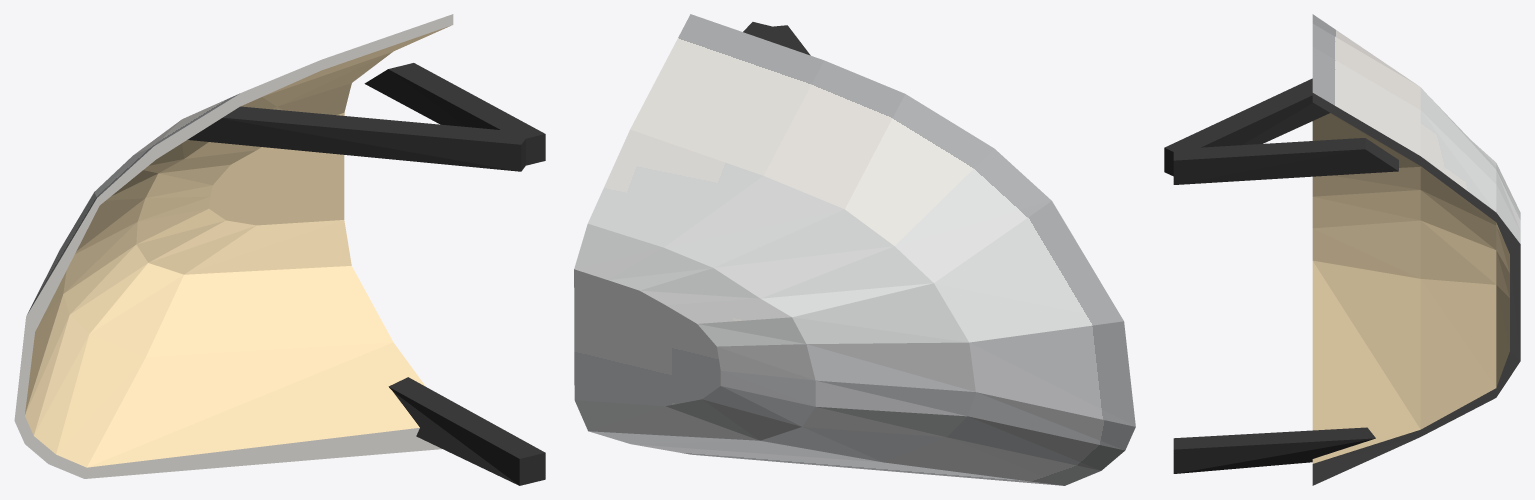
Rendered from cover_left.obj.
3 views of the same model, side by side, from view 1: azimuth 30°, elevation 25°; view 2: azimuth 150°, elevation 25°; view 3: azimuth 270°, elevation 25° (orthographic). The views are drawn at different scales.
Visible parts, largest first — view 1: 02bea73a-2489-c928-ea13-135e158d13ba, bb3a4c05-1d27-01a5-7d35-f9c54dc55973, c55f227c-a0a2-f02a-1cd2-84f893cda250, fe7ae4be-e643-17ee-8fa7-4b8a651b505f; view 2: 02bea73a-2489-c928-ea13-135e158d13ba, bb3a4c05-1d27-01a5-7d35-f9c54dc55973; view 3: 02bea73a-2489-c928-ea13-135e158d13ba, fe7ae4be-e643-17ee-8fa7-4b8a651b505f, c55f227c-a0a2-f02a-1cd2-84f893cda250, bb3a4c05-1d27-01a5-7d35-f9c54dc55973.
Boxes of the visible parts, x1,y1,x2,y2 form: 02bea73a-2489-c928-ea13-135e158d13ba: (14, 14, 453, 478); bb3a4c05-1d27-01a5-7d35-f9c54dc55973: (187, 106, 528, 171); c55f227c-a0a2-f02a-1cd2-84f893cda250: (388, 377, 545, 485); fe7ae4be-e643-17ee-8fa7-4b8a651b505f: (364, 63, 545, 165); 02bea73a-2489-c928-ea13-135e158d13ba: (574, 14, 1135, 485); bb3a4c05-1d27-01a5-7d35-f9c54dc55973: (760, 25, 810, 55); 02bea73a-2489-c928-ea13-135e158d13ba: (1312, 14, 1520, 485); fe7ae4be-e643-17ee-8fa7-4b8a651b505f: (1173, 138, 1398, 184); c55f227c-a0a2-f02a-1cd2-84f893cda250: (1173, 427, 1375, 473); bb3a4c05-1d27-01a5-7d35-f9c54dc55973: (1164, 78, 1329, 176).
Bounding box in the file's own units: 1.1 × 1 × 0.8243.
